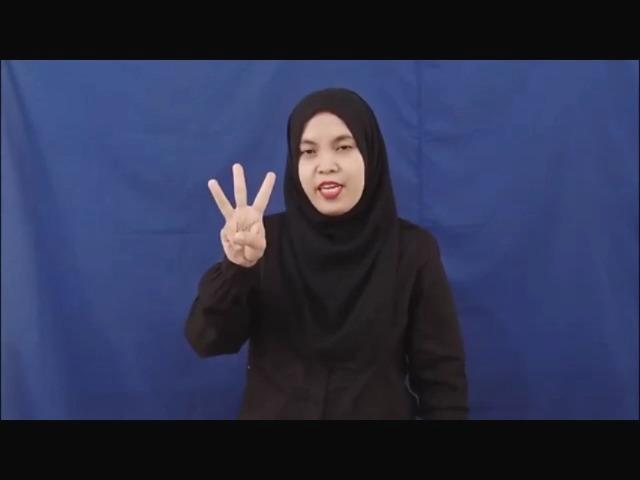W: (203, 159, 280, 269)
